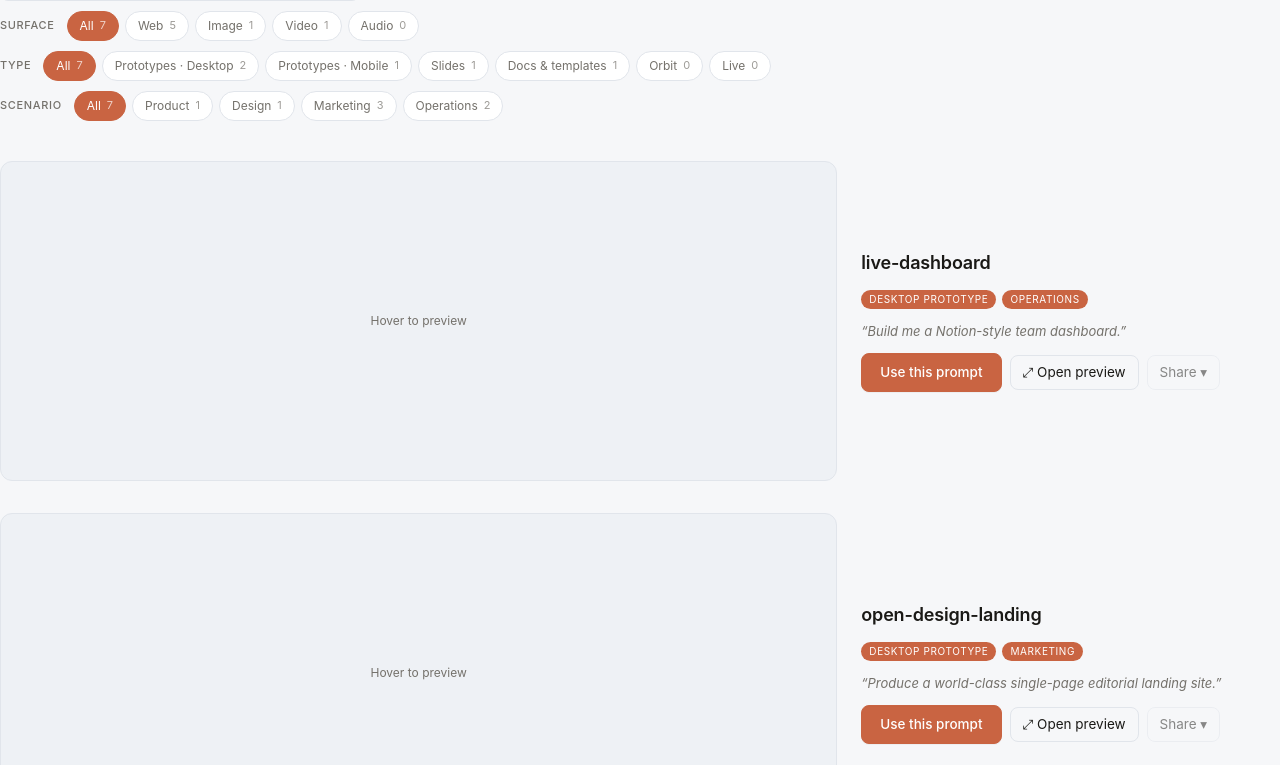
Test: ExamplesTab › narrows by surface, type, and scenario filter pills
The width and height of the screenshot is (1280, 765).
Click the tab named "Image1" at (231, 26), box [195,10,266,40]
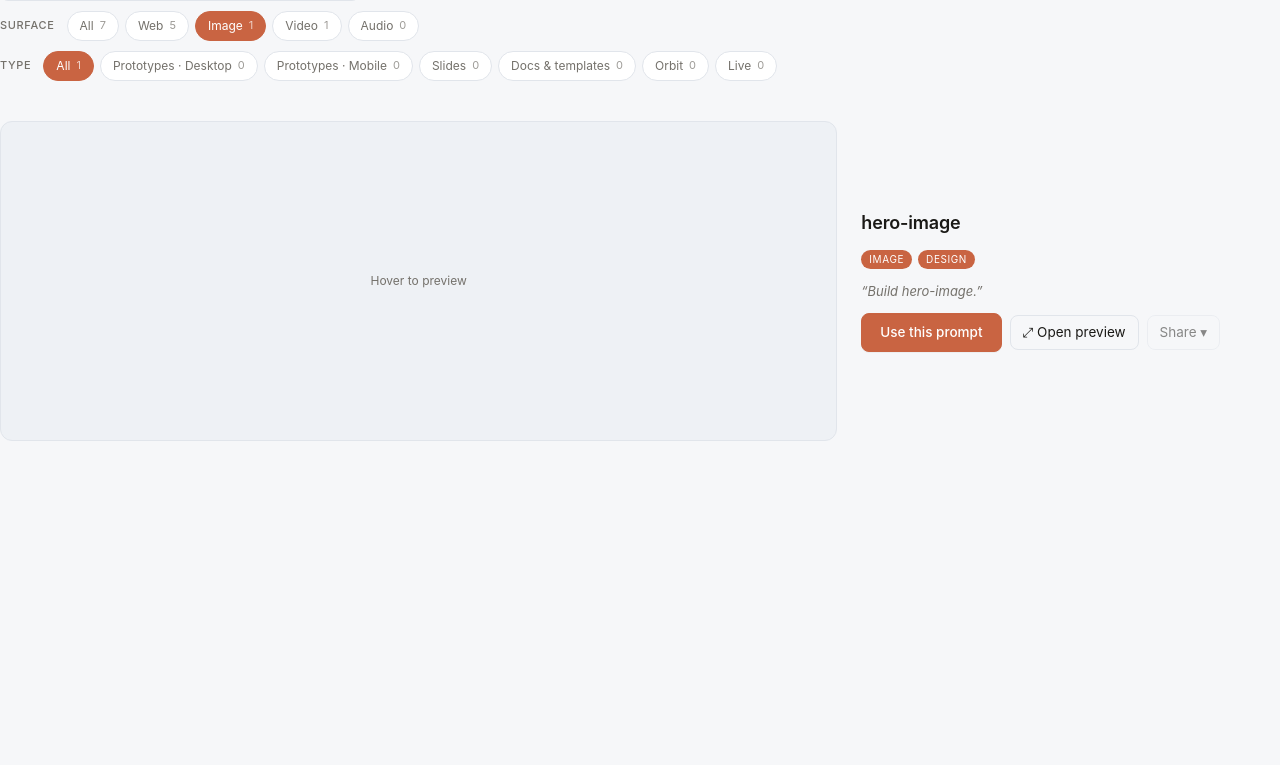
Check: the element with test id "example-card-hero-image" is shown, box [0,120,1279,440]
Check: the element with test id "example-card-live-dashboard" is gone
Click the tab named "All7" at (93, 26), box [67,10,119,40]
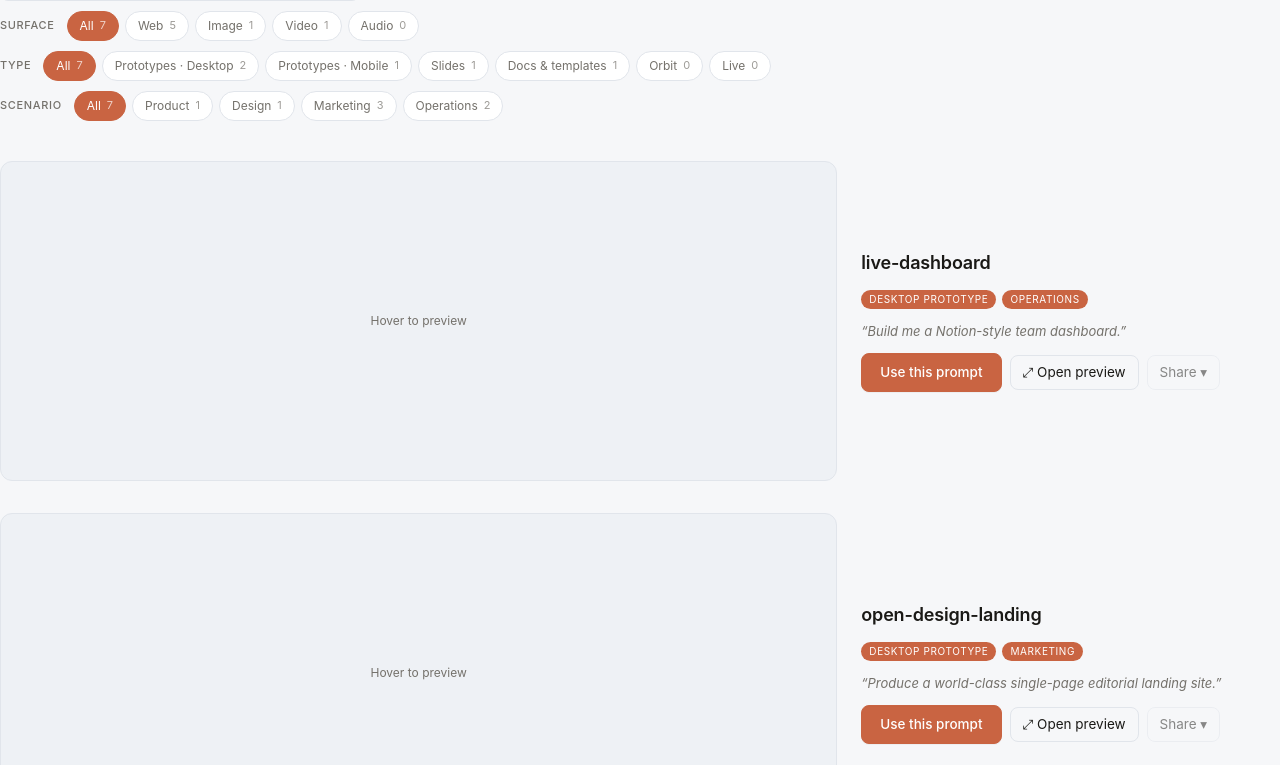
Click the tab named "Prototypes · Mobile1" at (339, 66), box [265,50,412,80]
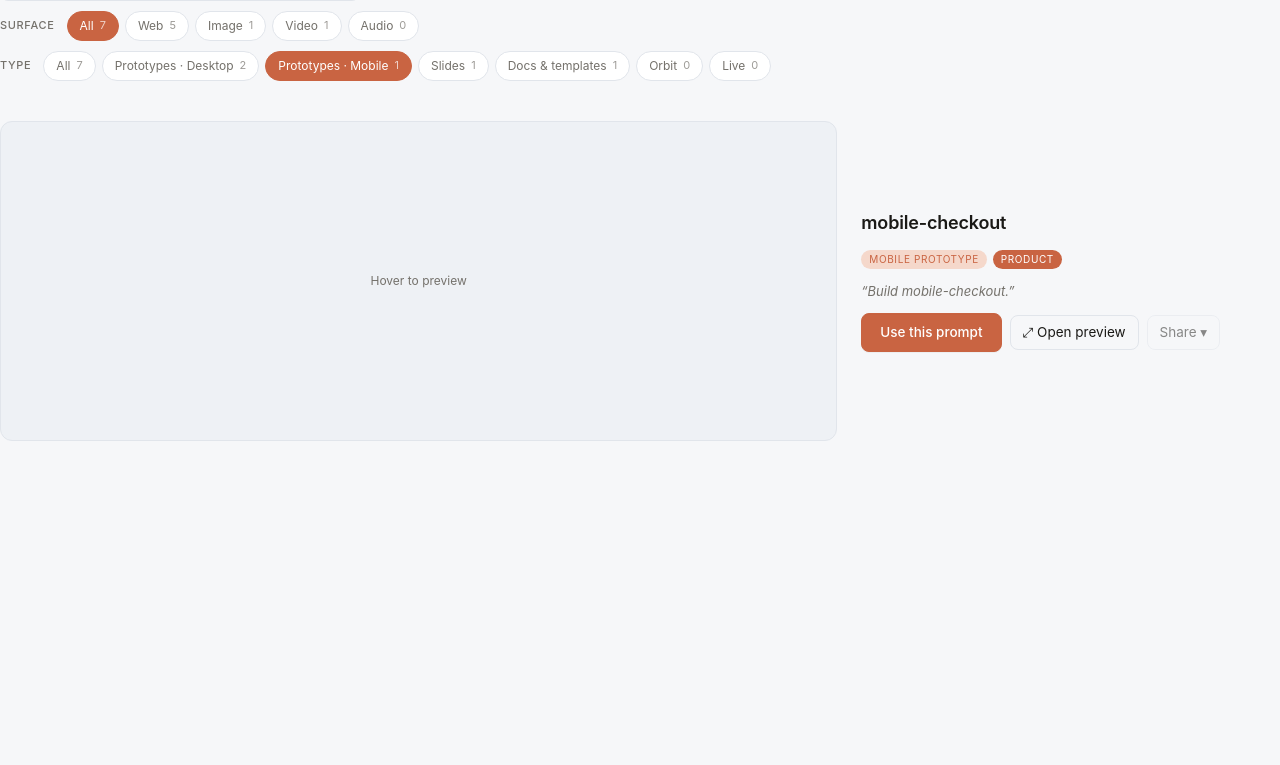
Check: the element with test id "example-card-mobile-checkout" is shown, box [0,120,1279,440]
Check: the element with test id "example-card-live-dashboard" is gone
Click the tab named "All7" at (70, 66), box [43,50,96,80]
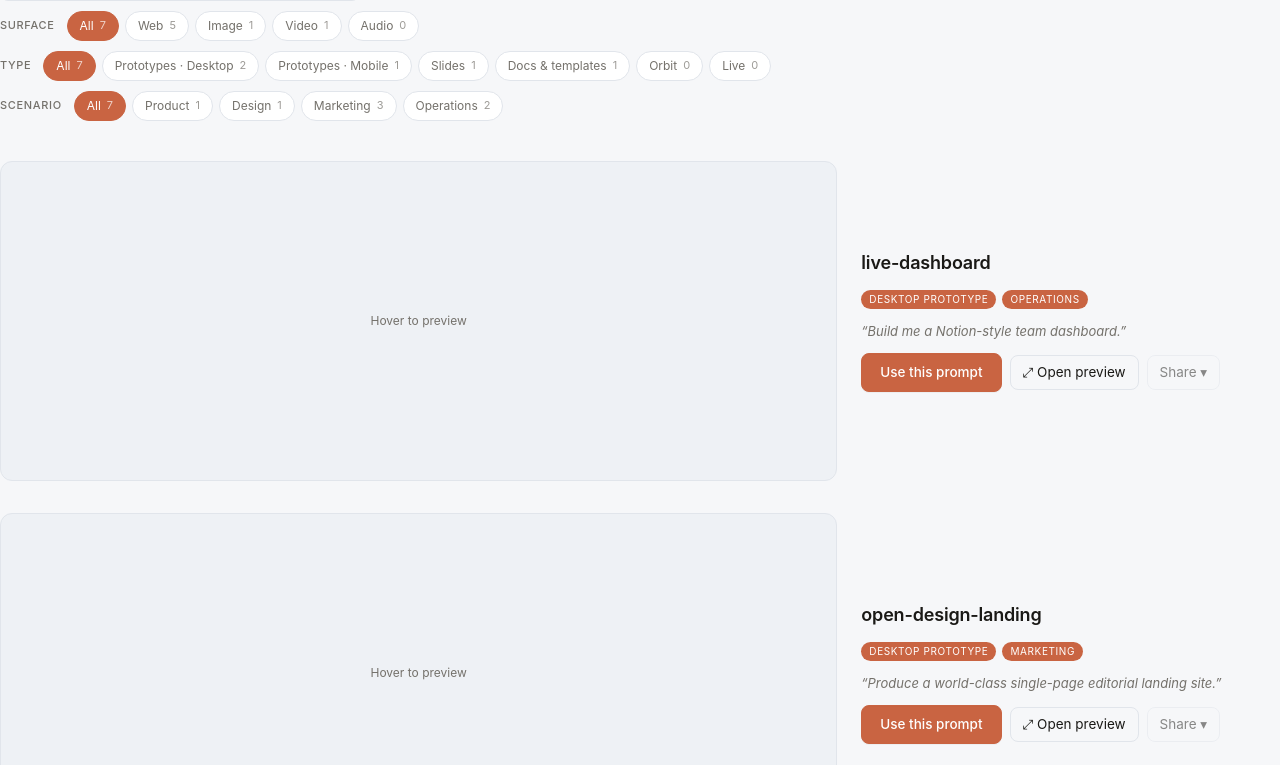
Click the button named "Marketing3" at (349, 106), box [301,90,396,120]
(page scrolled)
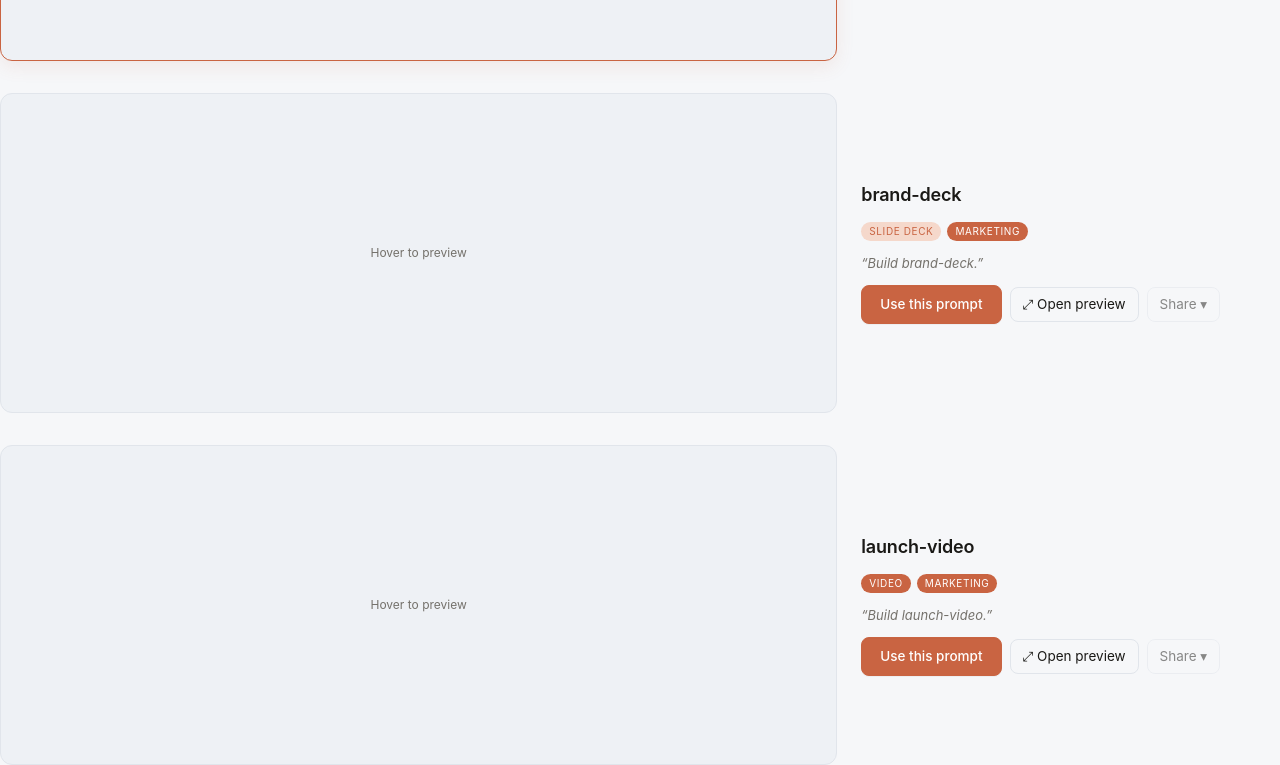
Check: the element with test id "example-card-brand-deck" is shown, box [0,92,1279,412]
Check: the element with test id "example-card-launch-video" is shown, box [0,444,1279,764]
Check: the element with test id "example-card-live-dashboard" is gone
